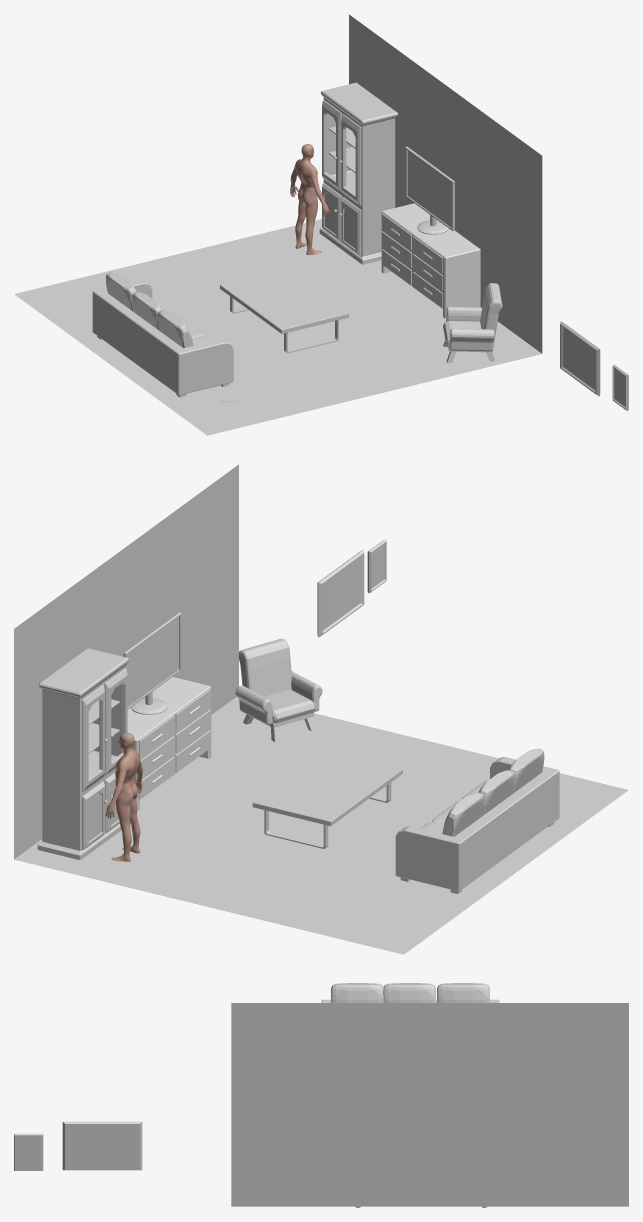
Rendered from TV_Remote.fbx.
The picture shows the model from 3 angles, top to bottom: view 1: azimuth 30°, elevation 25°; view 2: azimuth 150°, elevation 25°; view 3: azimuth 270°, elevation 25°; orthographic projection. The views are drawn at different scales.
Parts seen in each view (by area): view 1: Cube.009, Cube.012, Cube.019, Cube.002, Cube, Cube.036, Cube.004, HumanBody:humanBody, Cube.030, Cube.016, Cube.062, Cube.022 (+5 smaller); view 2: Cube.009, Cube.012, Cube.019, Cube.002, Cube.036, Cube.004, Cube, Cube.030, HumanBody:humanBody, Cube.062, Cube.013, Cube.016 (+8 smaller); view 3: Cube.009, Cube.030, Cube.031, Cube.020, Cube.021, Cube.023.
Boxes of the visible parts, <box> form: Cube.009: <box>14,14,542,435</box>; Cube.012: <box>319,82,397,264</box>; Cube.019: <box>92,279,233,397</box>; Cube.002: <box>220,268,348,353</box>; Cube: <box>381,203,480,318</box>; Cube.036: <box>443,283,502,363</box>; Cube.004: <box>405,146,454,231</box>; HumanBody:humanBody: <box>290,144,329,255</box>; Cube.030: <box>560,321,600,396</box>; Cube.016: <box>339,114,361,205</box>; Cube.062: <box>322,100,341,191</box>; Cube.022: <box>339,197,361,255</box>; Cube.009: <box>14,464,628,954</box>; Cube.012: <box>37,648,130,859</box>; Cube.019: <box>395,757,559,893</box>; Cube.002: <box>252,750,402,848</box>; Cube.036: <box>235,638,322,742</box>; Cube.004: <box>123,612,181,709</box>; Cube: <box>127,677,211,810</box>; Cube.030: <box>317,550,364,637</box>; HumanBody:humanBody: <box>105,732,142,861</box>; Cube.062: <box>82,685,107,791</box>; Cube.013: <box>82,781,107,849</box>; Cube.016: <box>104,668,127,775</box>; Cube.009: <box>231,1003,628,1206</box>; Cube.030: <box>62,1121,142,1170</box>; Cube.031: <box>14,1133,43,1170</box>; Cube.020: <box>437,983,489,1002</box>; Cube.021: <box>331,983,383,1002</box>; Cube.023: <box>383,983,435,1002</box>.
Bounding box in the file's own units: 601 × 343 × 929.
